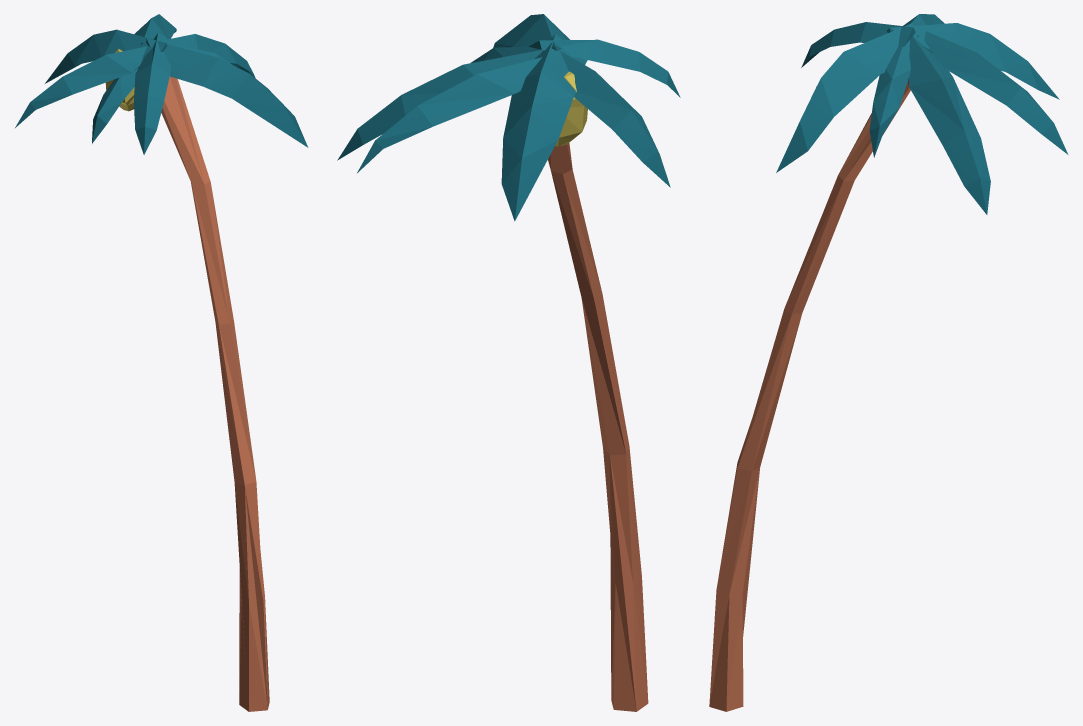
File: Tree_12_gradient_blue_vc.fbx
3 views of the same model, side by side, from view 1: azimuth 30°, elevation 25°; view 2: azimuth 150°, elevation 25°; view 3: azimuth 270°, elevation 25° (orthographic). The views are drawn at different scales.
Parts seen in each view (by area): view 1: Tree_12_gradient_blue_vc; view 2: Tree_12_gradient_blue_vc; view 3: Tree_12_gradient_blue_vc.
Boxes of the visible parts, box(x1,y1,x2,y2) form: Tree_12_gradient_blue_vc: box(15, 14, 308, 711); Tree_12_gradient_blue_vc: box(337, 14, 680, 711); Tree_12_gradient_blue_vc: box(709, 14, 1068, 711).
Size of the model in its own units: 80.91 by 183 by 88.81.
